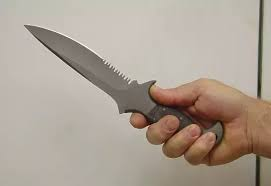knife: (20, 19, 225, 161)
